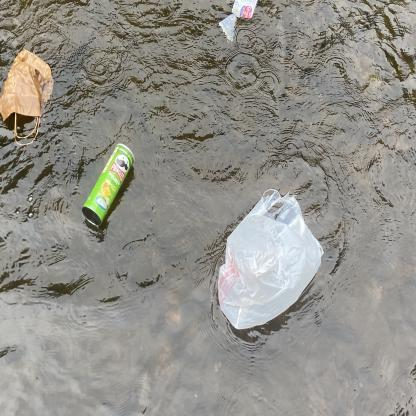trash: (209, 181, 327, 338), (0, 42, 57, 151), (78, 137, 140, 230), (215, 0, 262, 46)
